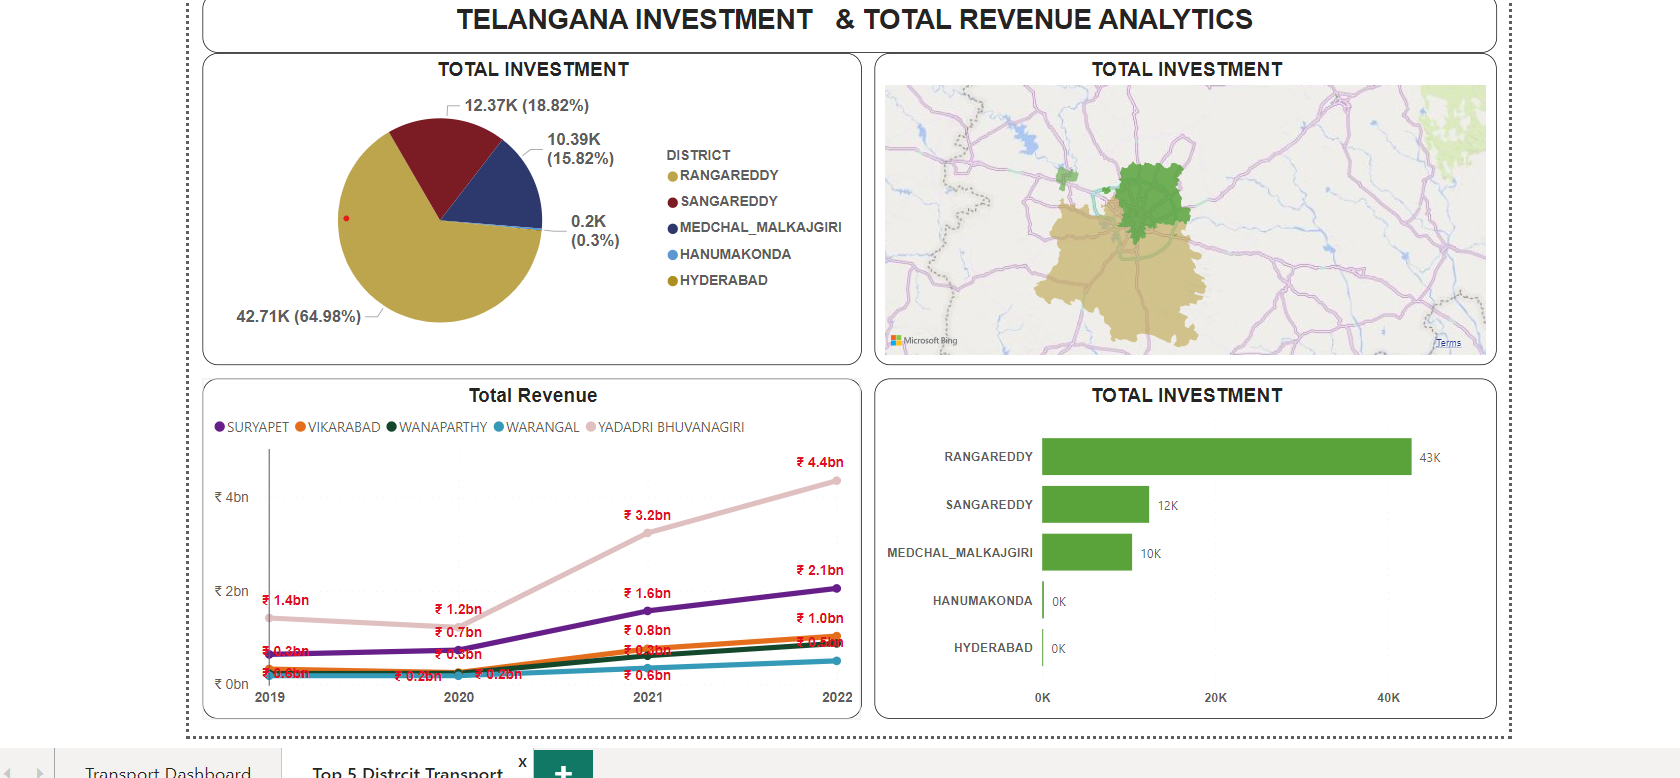

The dashboard page shown, as its layout file describes it:
{"tool":"powerbi","page":{"name":"Top 5 Distrcit Transport","canvas":[1280,720],"ordinal":1},"visuals":[{"type":"lineChart","title":"Total Revenue ","fields":{"Category":["dim_date.fiscal_year"],"Y":["Key_Measures.Total_Revenue"],"Series":["dim_districts.district"]},"box":[12.9,373.8,639.1,330.1],"z":2000},{"type":"barChart","title":"TOTAL INVESTMENT","fields":{"Category":["dim_districts.district"],"Y":["Sum(fact_TS_iPASS.investment_in_cr)"]},"box":[665,373.8,603.5,330.1],"z":3004},{"type":"pieChart","title":"TOTAL INVESTMENT","fields":{"Category":["dim_districts.district"],"Y":["Sum(fact_TS_iPASS.investment_in_cr)"]},"box":[12.9,58.2,639.1,302.6],"z":3005},{"type":"filledMap","title":"TOTAL INVESTMENT","fields":{"Category":["dim_districts.district"]},"box":[665,58.2,603.5,302.6],"z":3006},{"type":"textbox","box":[12.9,0,1255.6,58.2],"z":3007}]}

Visuals, with their boxes on the page's 1280x720 design canvas (x1, y1, x2, y2). These are canvas units, not pixel positions in the 1680x778 screenshot, which may show the page scaled, cropped or inside an application window:
"Total Revenue " lineChart: bbox=(13, 374, 652, 704)
"TOTAL INVESTMENT" barChart: bbox=(665, 374, 1268, 704)
"TOTAL INVESTMENT" pieChart: bbox=(13, 58, 652, 361)
"TOTAL INVESTMENT" filledMap: bbox=(665, 58, 1268, 361)
textbox: bbox=(13, 0, 1268, 58)
